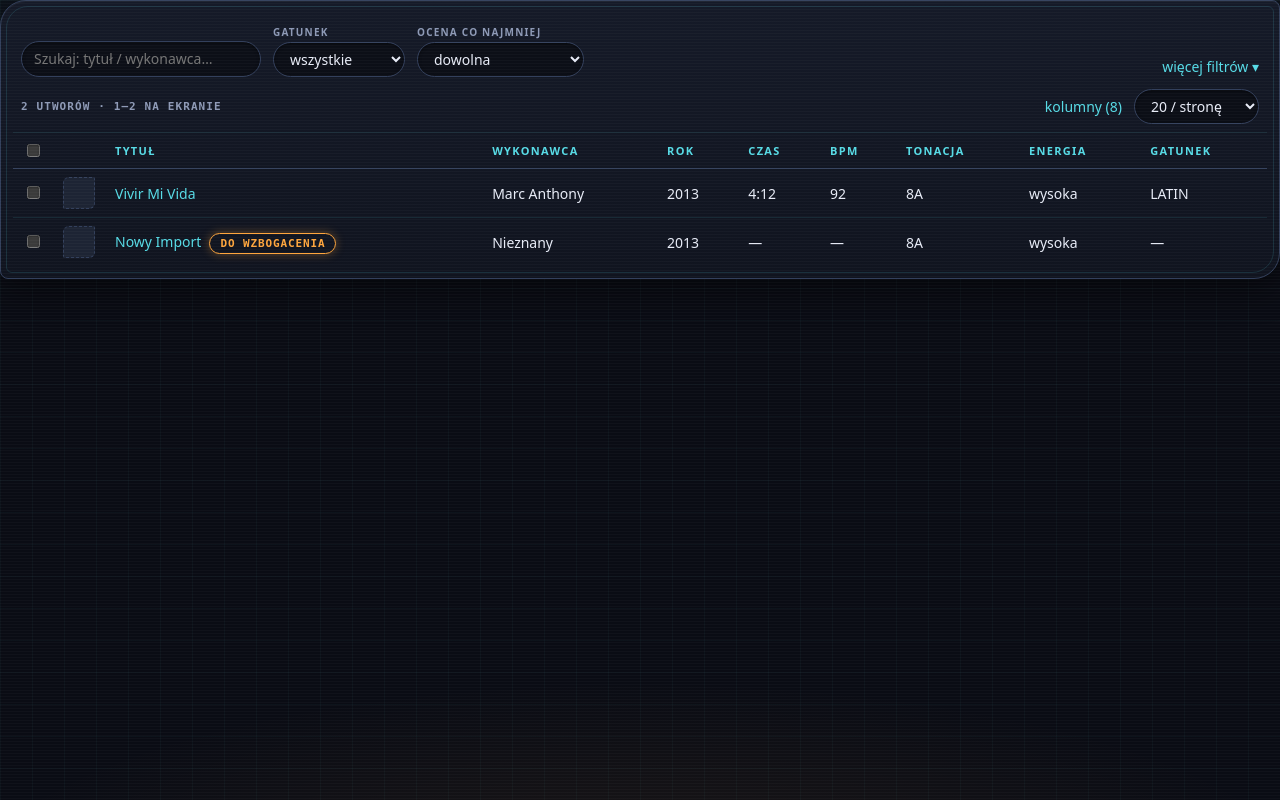
Test: LibraryView › panel filtrów ma już tylko utwór i brzmienie (D39)
Check: the button "Vivir Mi Vida" is shown, box [115,182,196,204]
What coordinates should you click on to do the following:
click the button with test id "toggle-advanced-filters"
I would click on:
 (1211, 66)
Its box is [1162,56,1259,77].
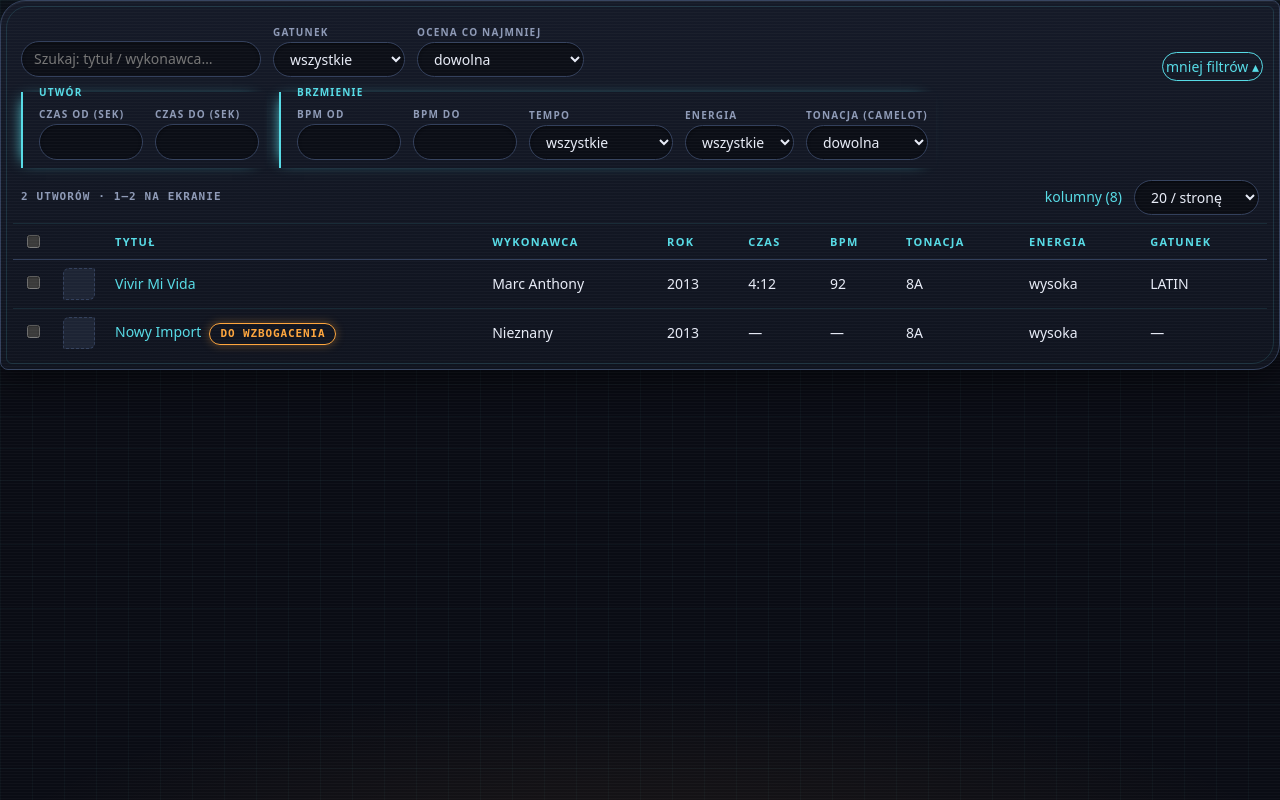
Check: the element with test id "track-filters" is shown, box [21,85,267,168]
Check: the element with test id "harmonic-filters" is shown, box [279,85,936,168]
